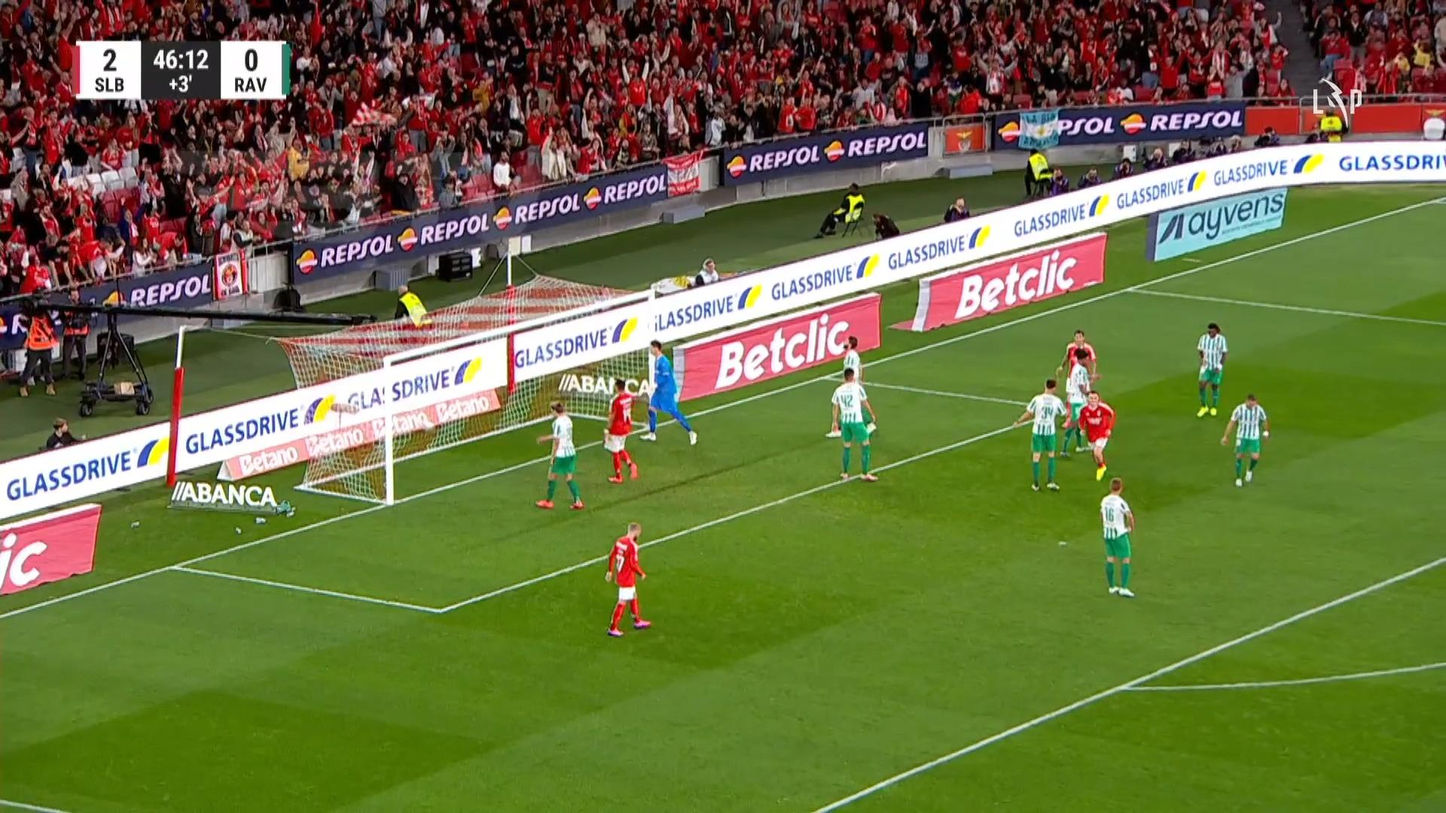goalkeeper: (639, 339, 698, 445)
player: (1012, 377, 1069, 491), (828, 367, 878, 481), (603, 521, 652, 636), (1055, 329, 1098, 457), (534, 400, 584, 510), (1219, 392, 1269, 486), (1099, 477, 1135, 596), (602, 377, 641, 483), (825, 335, 865, 438), (1076, 389, 1115, 481), (1058, 348, 1091, 456), (1195, 321, 1228, 417), (840, 334, 863, 383)
